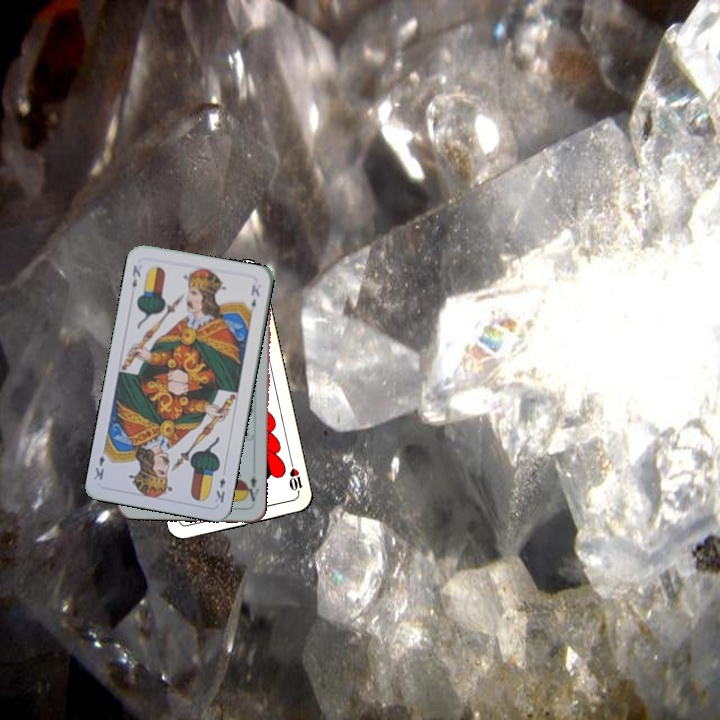EA: (241, 471, 261, 507)
EK: (211, 465, 228, 506), (127, 261, 143, 298)
H10: (285, 457, 305, 497)
